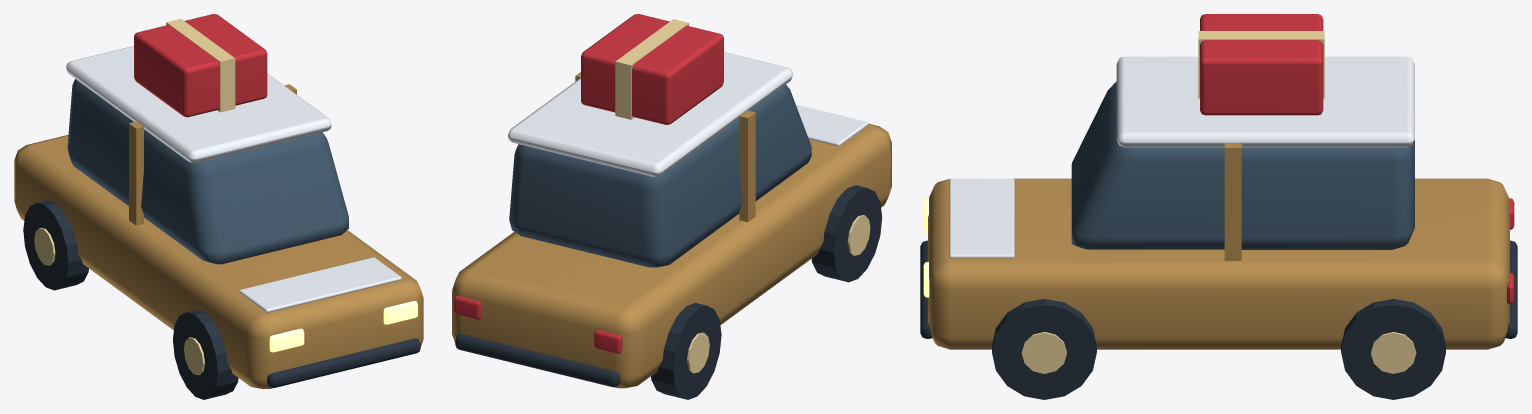
File: sledwagon.glb
3 renders of one model, left to right at view 1: azimuth 30°, elevation 25°; view 2: azimuth 150°, elevation 25°; view 3: azimuth 270°, elevation 25°, orthographic. The views are drawn at different scales.
Parts seen in each view (by area): view 1: Exterior; view 2: Exterior; view 3: Exterior.
Part boxes in pixels (<box>): Exterior: <box>14,14,423,399</box>; Exterior: <box>452,14,891,399</box>; Exterior: <box>920,14,1517,399</box>.
Size of what is drawn, in the model's own units: 1.9 by 2.4 by 4.21.
